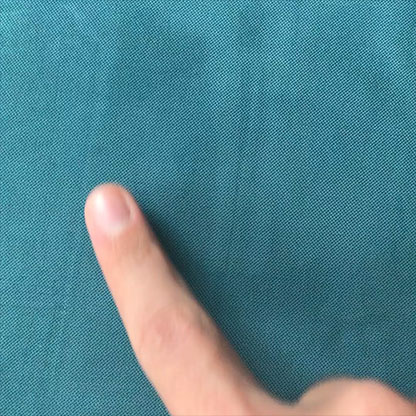fingertip: (68, 173, 155, 247)
